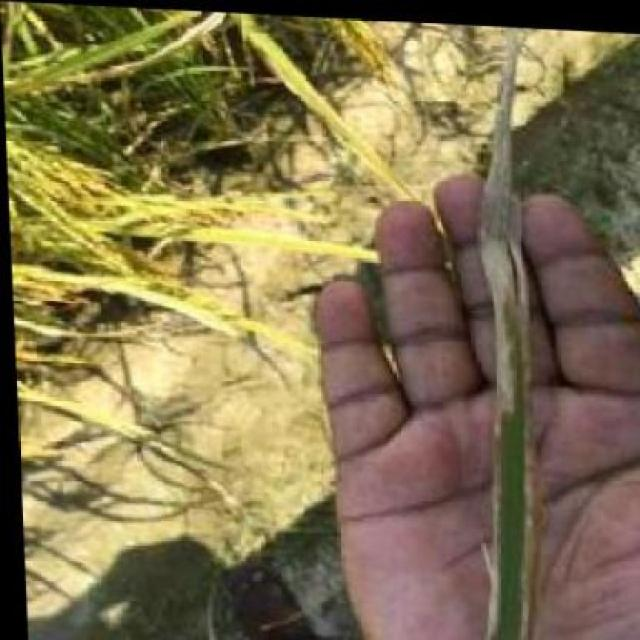Brown_Spot: (441, 51, 548, 640)
